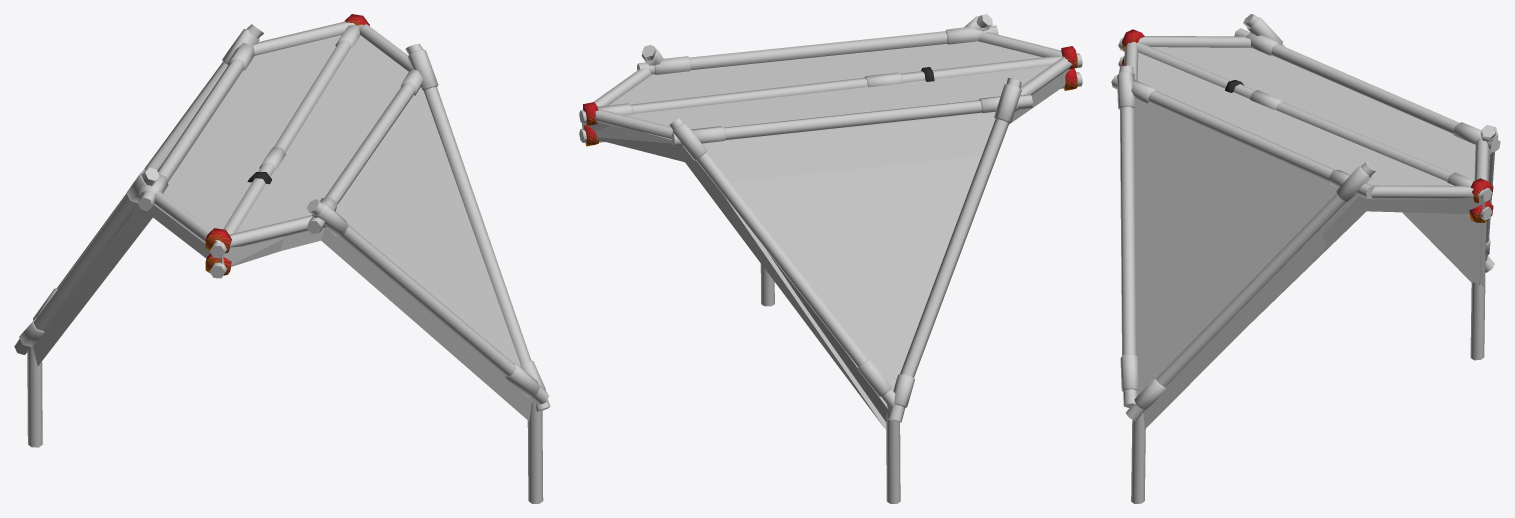
The model's file is builderRoofSaddleT03.FBX.
3 views of the same model, side by side, from view 1: azimuth 30°, elevation 25°; view 2: azimuth 150°, elevation 25°; view 3: azimuth 270°, elevation 25° (orthographic). The views are drawn at different scales.
Parts seen in each view (by area): view 1: builderRoofSaddleT03T_LOD0, builderRoofSaddleT03T_COL; view 2: builderRoofSaddleT03T_LOD0, builderRoofSaddleT03T_COL; view 3: builderRoofSaddleT03T_LOD0, builderRoofSaddleT03T_COL.
Boxes of the visible parts, x1=… form: builderRoofSaddleT03T_LOD0: x1=14, y1=14, x2=550, y2=503; builderRoofSaddleT03T_COL: x1=131, y1=35, x2=399, y2=266; builderRoofSaddleT03T_LOD0: x1=579, y1=14, x2=1082, y2=503; builderRoofSaddleT03T_COL: x1=582, y1=47, x2=1042, y2=429; builderRoofSaddleT03T_LOD0: x1=1111, y1=14, x2=1500, y2=503; builderRoofSaddleT03T_COL: x1=1137, y1=47, x2=1490, y2=321.
Size of what is drawn, in the model's own units: 3.3 by 3.24 by 3.35.
